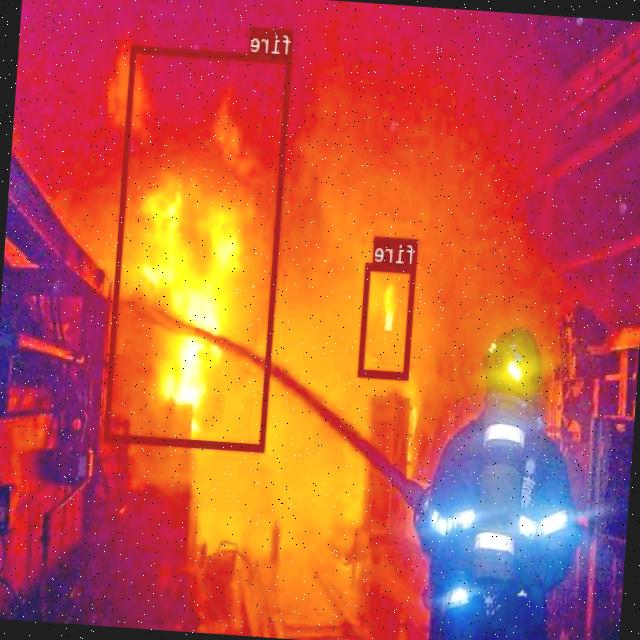fire: (105, 44, 292, 450), (359, 262, 416, 378)
